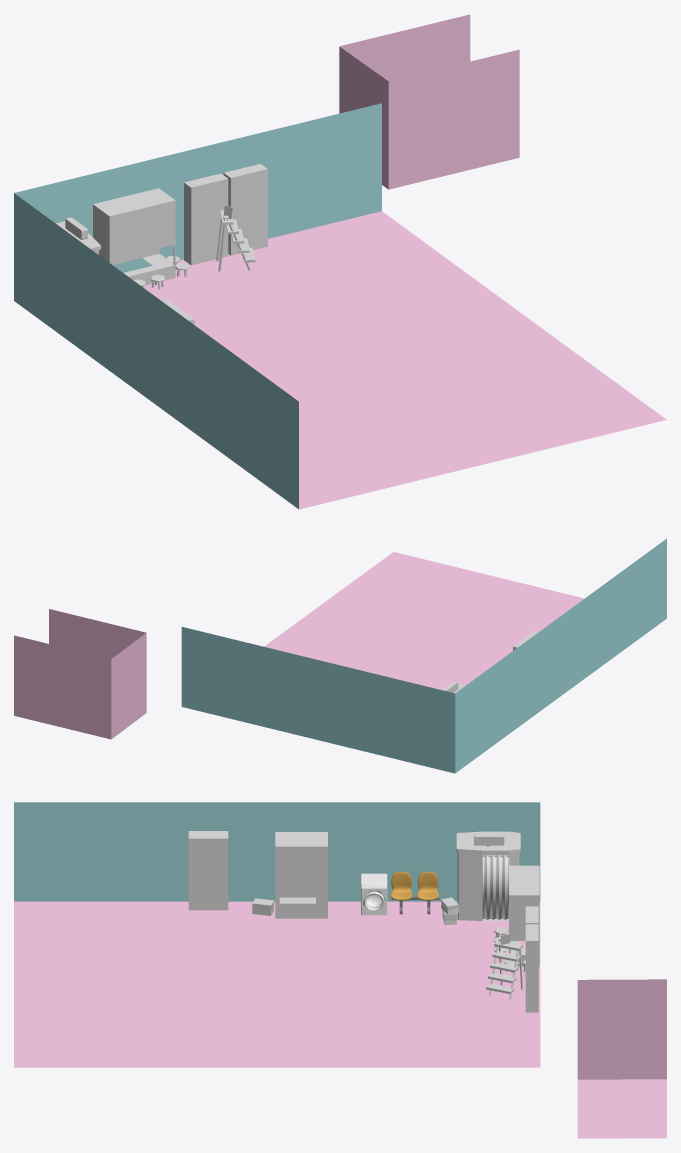
The model's file is mainscene.glb.
The picture shows the model from 3 angles, top to bottom: view 1: azimuth 30°, elevation 25°; view 2: azimuth 150°, elevation 25°; view 3: azimuth 270°, elevation 25°; orthographic projection. The views are drawn at different scales.
Visible parts, largest first — view 1: Floor, Floor.001, Cube.013, Cube.014, Cube.017; view 2: Floor, Floor.001; view 3: Floor, Floor.001, Cube.011, Cube.012, Photobooth, Cube.013, Plane.001, Cube.017, Cube, Cube.015, Cube.006, Cube.001.
Boxes of the visible parts, x1=… form: Floor: x1=14, y1=103, x2=666, y2=509; Floor.001: x1=339, y1=14, x2=519, y2=189; Cube.013: x1=93, y1=188, x2=175, y2=285; Cube.014: x1=184, y1=173, x2=228, y2=265; Cube.017: x1=223, y1=164, x2=267, y2=255; Floor: x1=181, y1=538, x2=666, y2=773; Floor.001: x1=14, y1=609, x2=146, y2=739; Floor: x1=14, y1=802, x2=540, y2=1067; Floor.001: x1=577, y1=979, x2=666, y2=1138; Cube.011: x1=275, y1=832, x2=327, y2=918; Cube.012: x1=188, y1=831, x2=228, y2=910; Photobooth: x1=456, y1=831, x2=520, y2=920; Cube.013: x1=509, y1=865, x2=539, y2=966; Plane.001: x1=482, y1=855, x2=509, y2=919; Cube.017: x1=525, y1=924, x2=538, y2=1012; Cube: x1=361, y1=873, x2=387, y2=915; Cube.015: x1=486, y1=940, x2=522, y2=993; Cube.006: x1=417, y1=871, x2=438, y2=900; Cube.001: x1=391, y1=871, x2=412, y2=900.
Bounding box in the file's own units: 12.75 × 2.51 × 14.85.
Materials: 7 (1 with a texture image).
